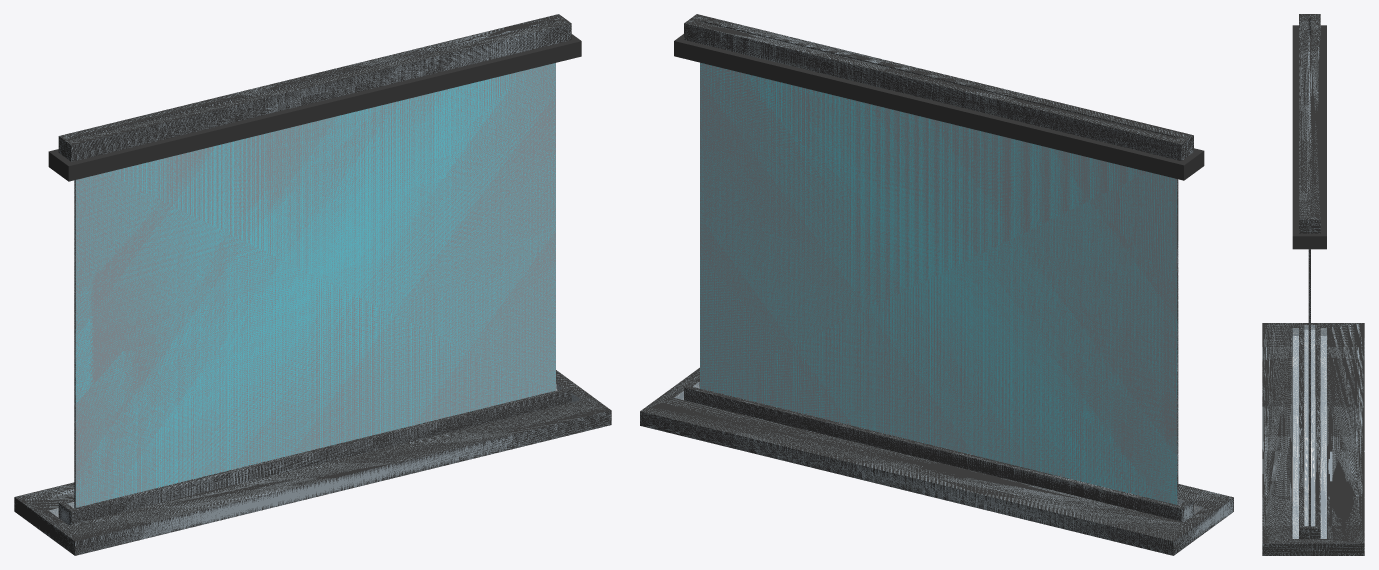
File: Screen.fbx
3 renders of one model, left to right at view 1: azimuth 30°, elevation 25°; view 2: azimuth 150°, elevation 25°; view 3: azimuth 270°, elevation 25°, orthographic. The views are drawn at different scales.
Visible parts, largest first — view 1: Model; view 2: Model; view 3: Model.
Boxes of the visible parts, left/top/right/bottom form: Model: left=14, top=14, right=611, bottom=555; Model: left=640, top=14, right=1233, bottom=555; Model: left=1262, top=14, right=1364, bottom=555.
Size of the model in its own units: 594 by 413 by 116.
